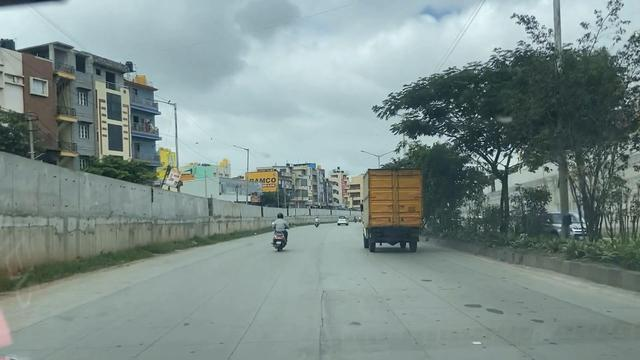HMV: (353, 159, 433, 265)
